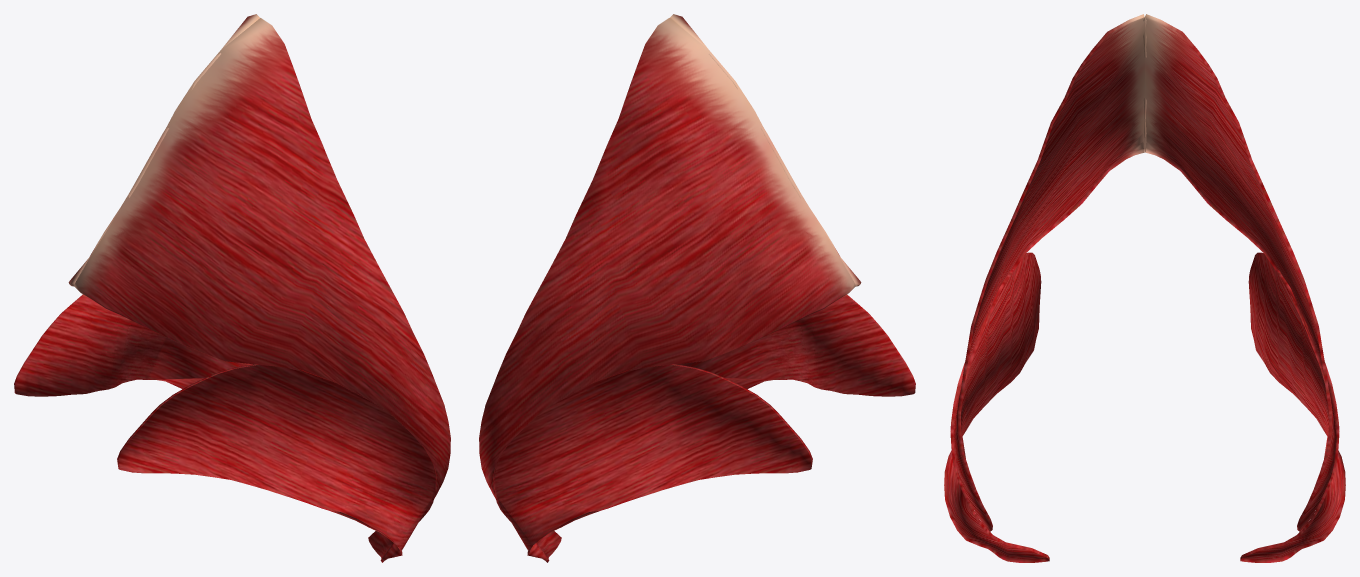
Rendered from musculo_nasal.glb.
3 views of the same model, side by side, from view 1: azimuth 30°, elevation 25°; view 2: azimuth 150°, elevation 25°; view 3: azimuth 270°, elevation 25° (orthographic). The views are drawn at different scales.
Parts seen in each view (by area): view 1: Plano_baked; view 2: Plano_baked; view 3: Plano_baked.
Boxes of the visible parts, box(x1,y1,x2,y2) form: Plano_baked: box(14, 14, 450, 562); Plano_baked: box(479, 14, 915, 562); Plano_baked: box(944, 14, 1345, 562).
Bounding box in the file's own units: 2.39 × 3.88 × 2.72.
Materials: 1 (1 with a texture image).
